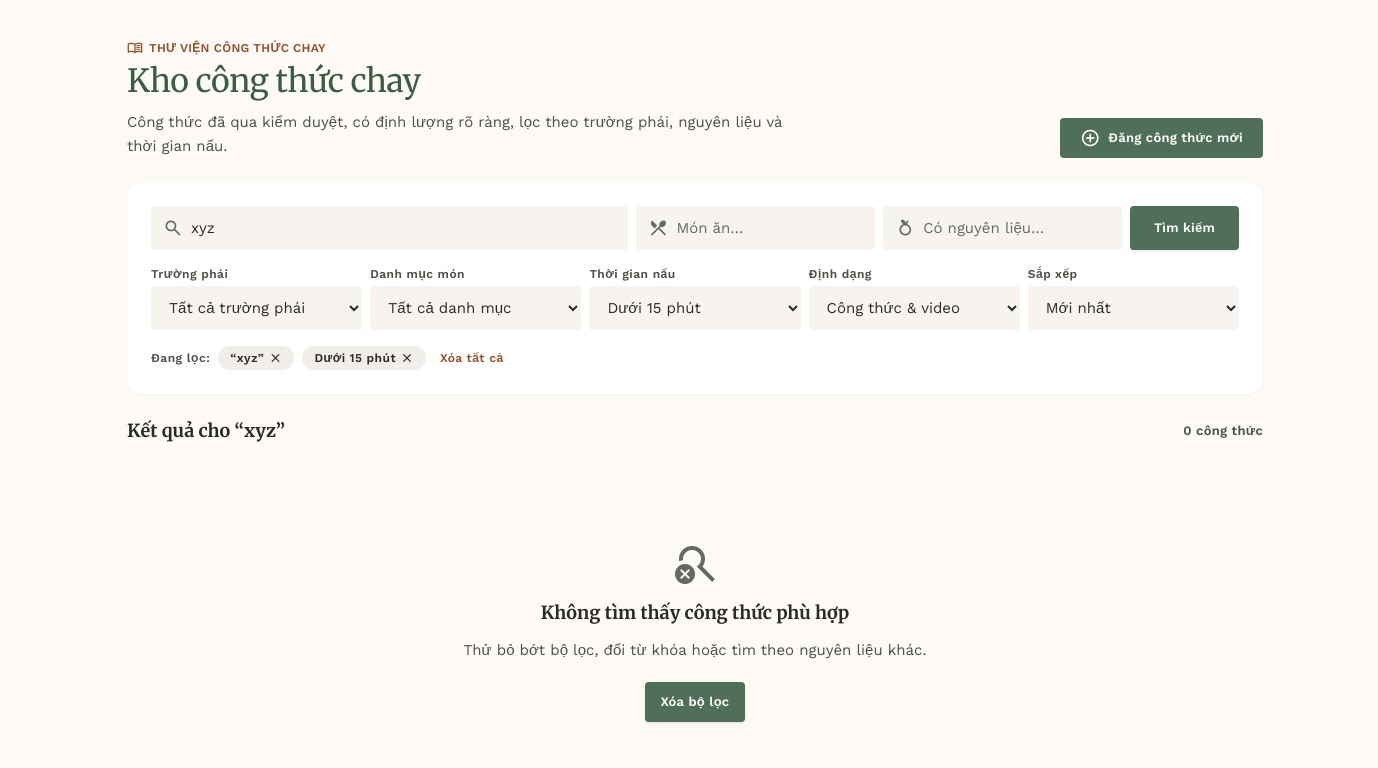
Test: RecipeList (SCR-11) › rỗng khi đang lọc thì gợi ý xóa bộ lọc
Expected: the heading "Không tìm thấy công thức phù hợp" is shown, [541,600,849,626]
Step 1. Click the button "Xóa bộ lọc" → (695, 702), box [645,682,746,722]
(page scrolled)
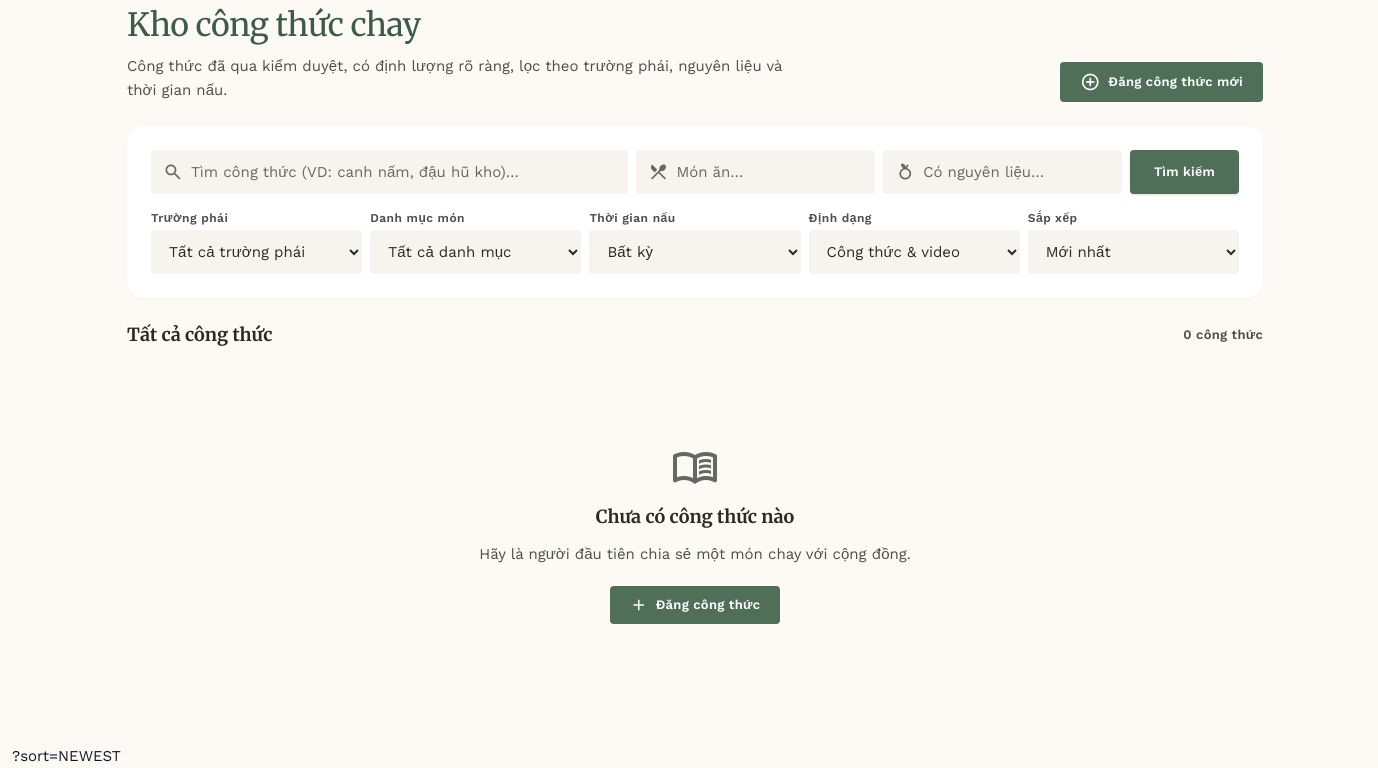
Result: the text with test id "location" reads "?sort=NEWEST" at [12,747,121,765]
